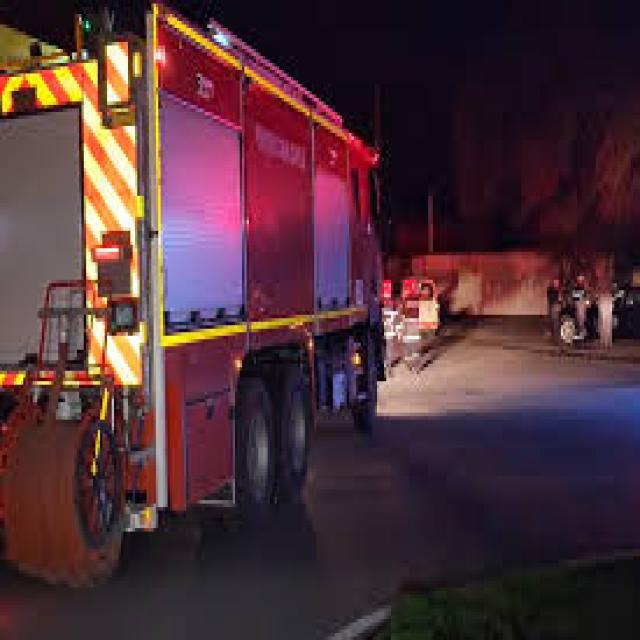pompier: (6, 14, 382, 561)
